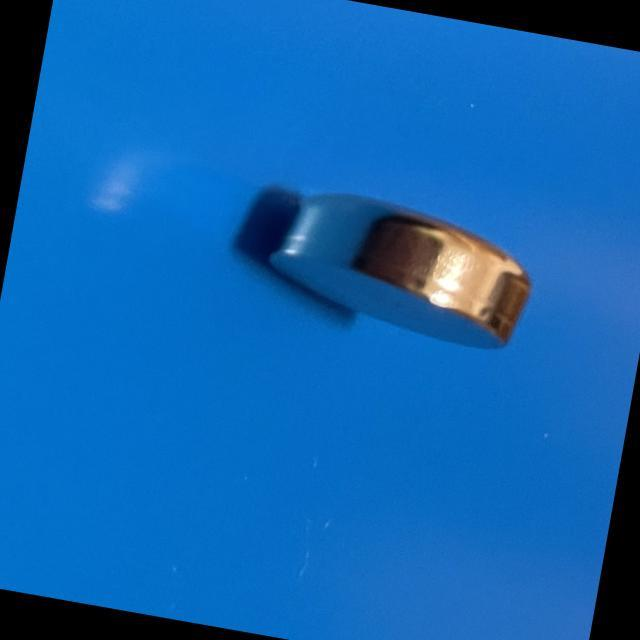COIN: (255, 182, 539, 356)
